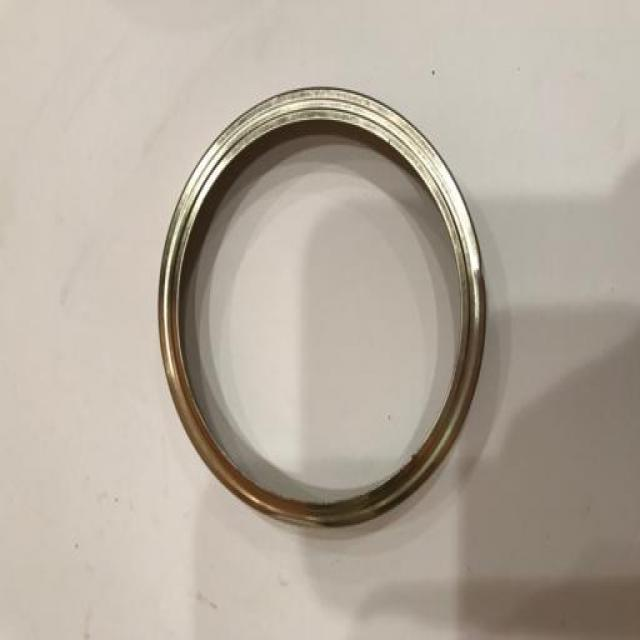metel: (154, 55, 518, 559)
